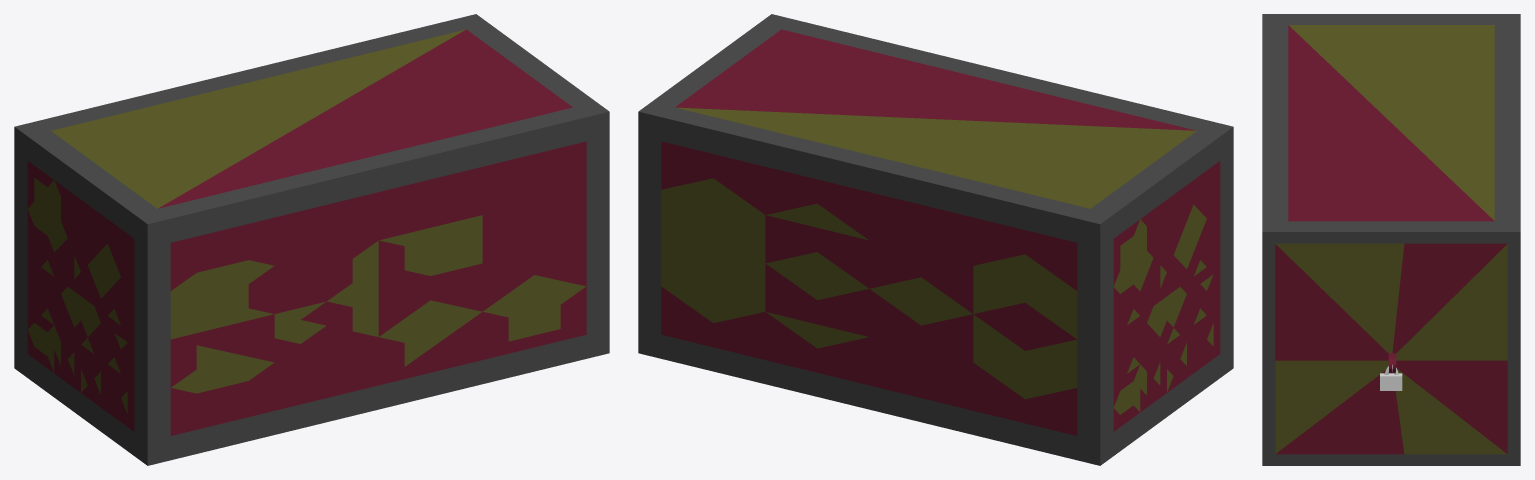
Rendered from garadz (1).fbx.
The picture shows the model from 3 angles, left to right: view 1: azimuth 30°, elevation 25°; view 2: azimuth 150°, elevation 25°; view 3: azimuth 270°, elevation 25°; orthographic projection. The views are drawn at different scales.
Parts seen in each view (by area): view 1: Куб; view 2: Куб; view 3: Куб, Куб.004.
Boxes of the visible parts, x1,y1,x2,y2 form: Куб: (14, 14, 609, 465); Куб: (638, 14, 1233, 465); Куб: (1262, 14, 1520, 465); Куб.004: (1380, 364, 1402, 390).
Bounding box in the file's own units: 4162 × 2000 × 2000.
